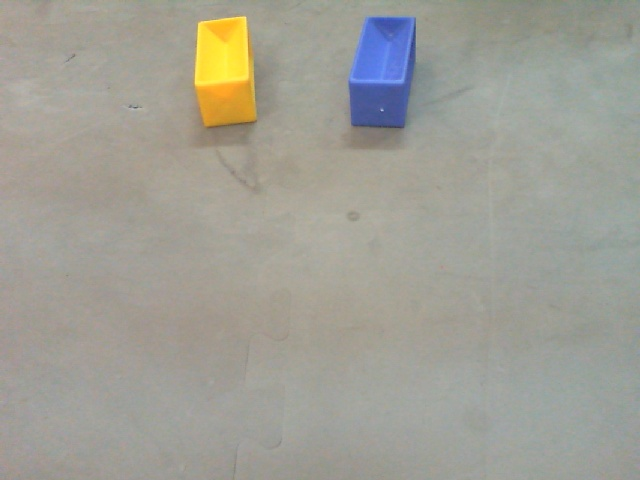BlueSample: (345, 15, 417, 129)
YellowSample: (193, 17, 260, 129)
